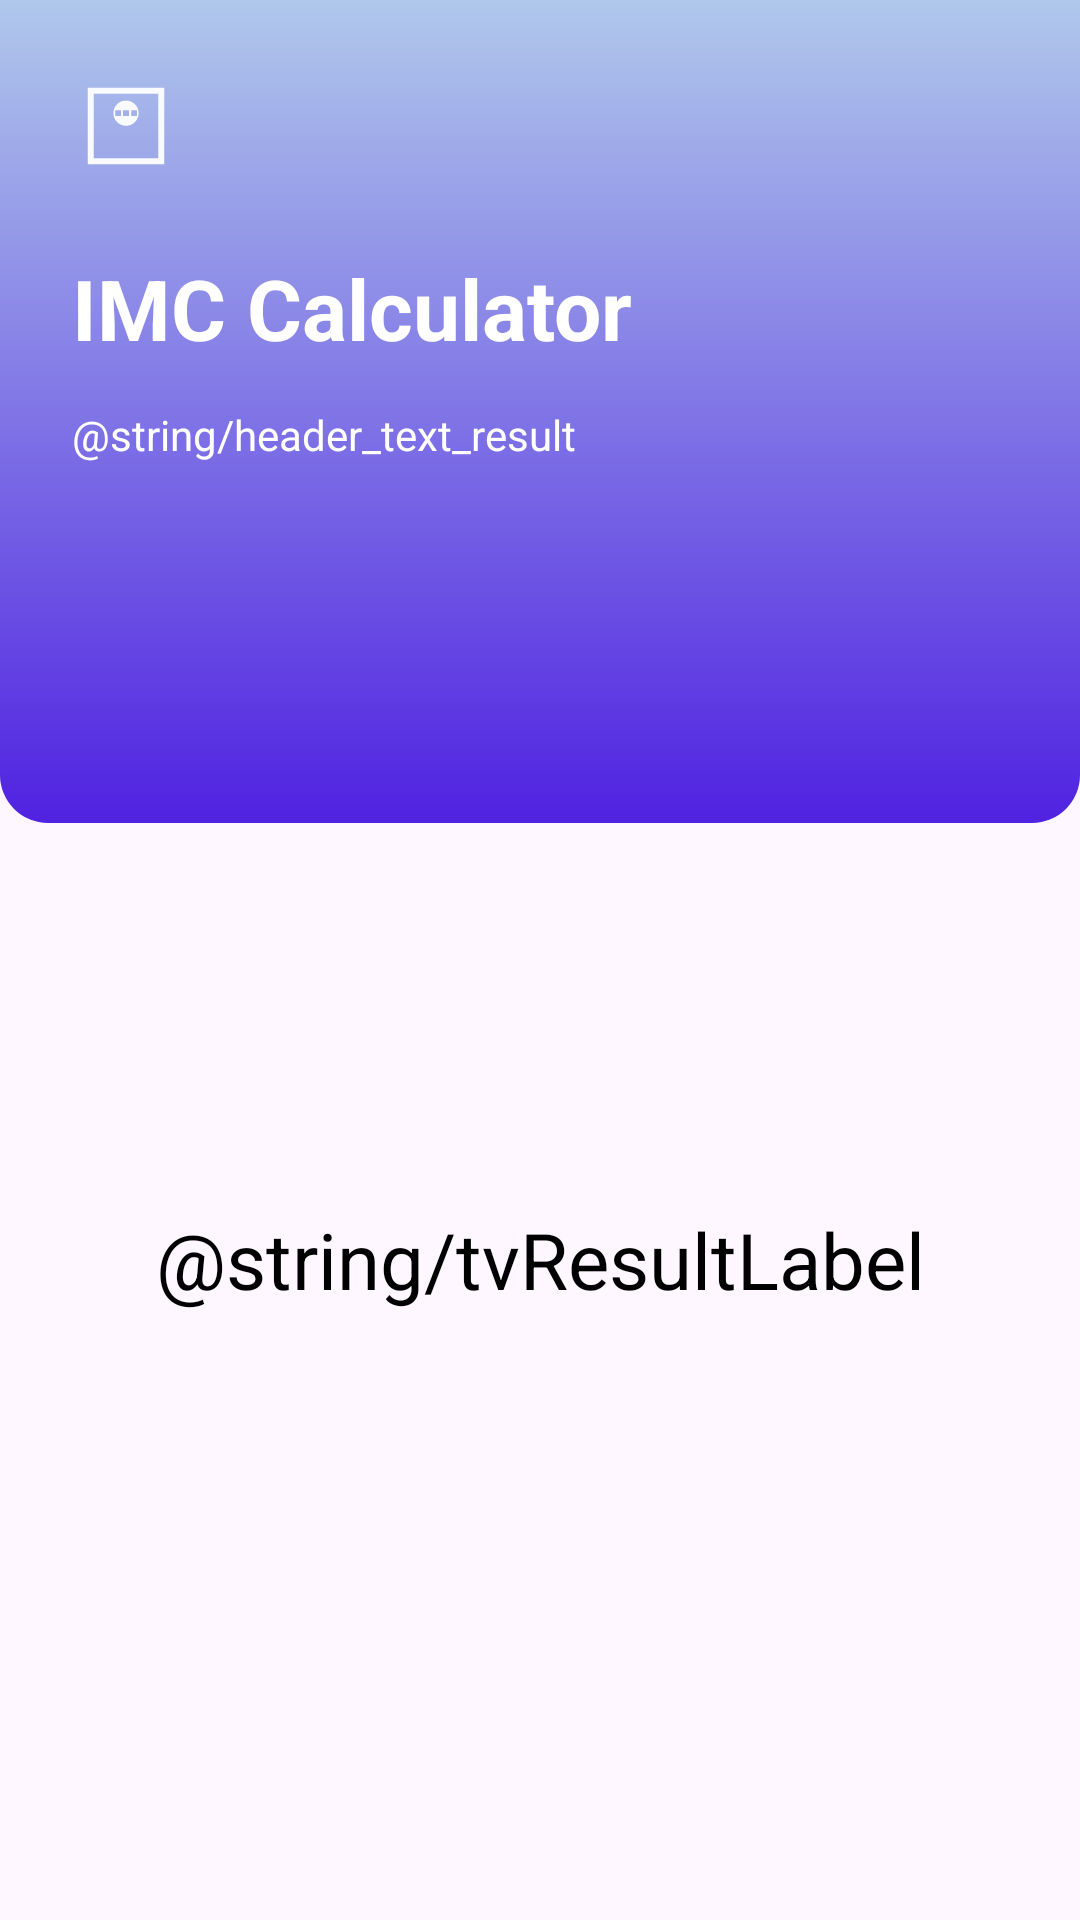

Locate icon controls on the screen. Image size 1080×1920, boxes as rect(x1, y1, x2, y2).
weight: rect(72, 72, 180, 165)
